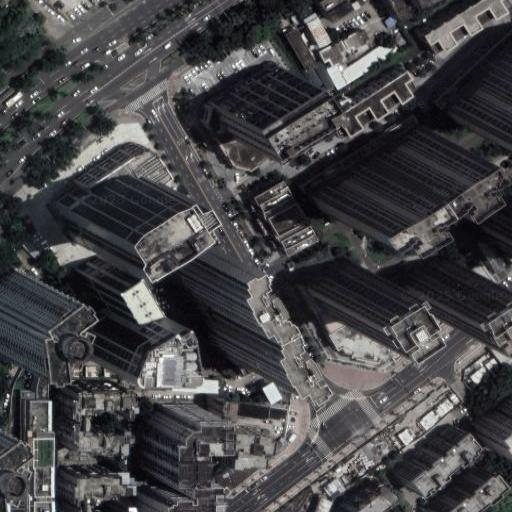building: (309, 383, 447, 491), (179, 246, 271, 384), (305, 128, 430, 217), (298, 115, 421, 195), (324, 278, 438, 362), (199, 95, 320, 171), (55, 158, 137, 236), (214, 62, 299, 136), (436, 30, 512, 109), (341, 50, 431, 114), (446, 49, 512, 125), (255, 181, 318, 257), (398, 424, 469, 488), (82, 292, 153, 348), (305, 261, 368, 324), (74, 136, 156, 184), (141, 407, 196, 467), (61, 391, 117, 449), (436, 270, 493, 325), (431, 464, 495, 512), (340, 39, 395, 84), (60, 469, 116, 512), (78, 256, 124, 308), (476, 396, 512, 447), (33, 432, 54, 512), (285, 29, 317, 72), (196, 416, 235, 449), (302, 13, 332, 49), (236, 401, 286, 422), (318, 41, 350, 67), (319, 0, 361, 19), (30, 400, 51, 432), (342, 31, 370, 54), (325, 64, 348, 90), (387, 0, 412, 22), (497, 218, 512, 251), (315, 498, 332, 512), (225, 400, 238, 416)
